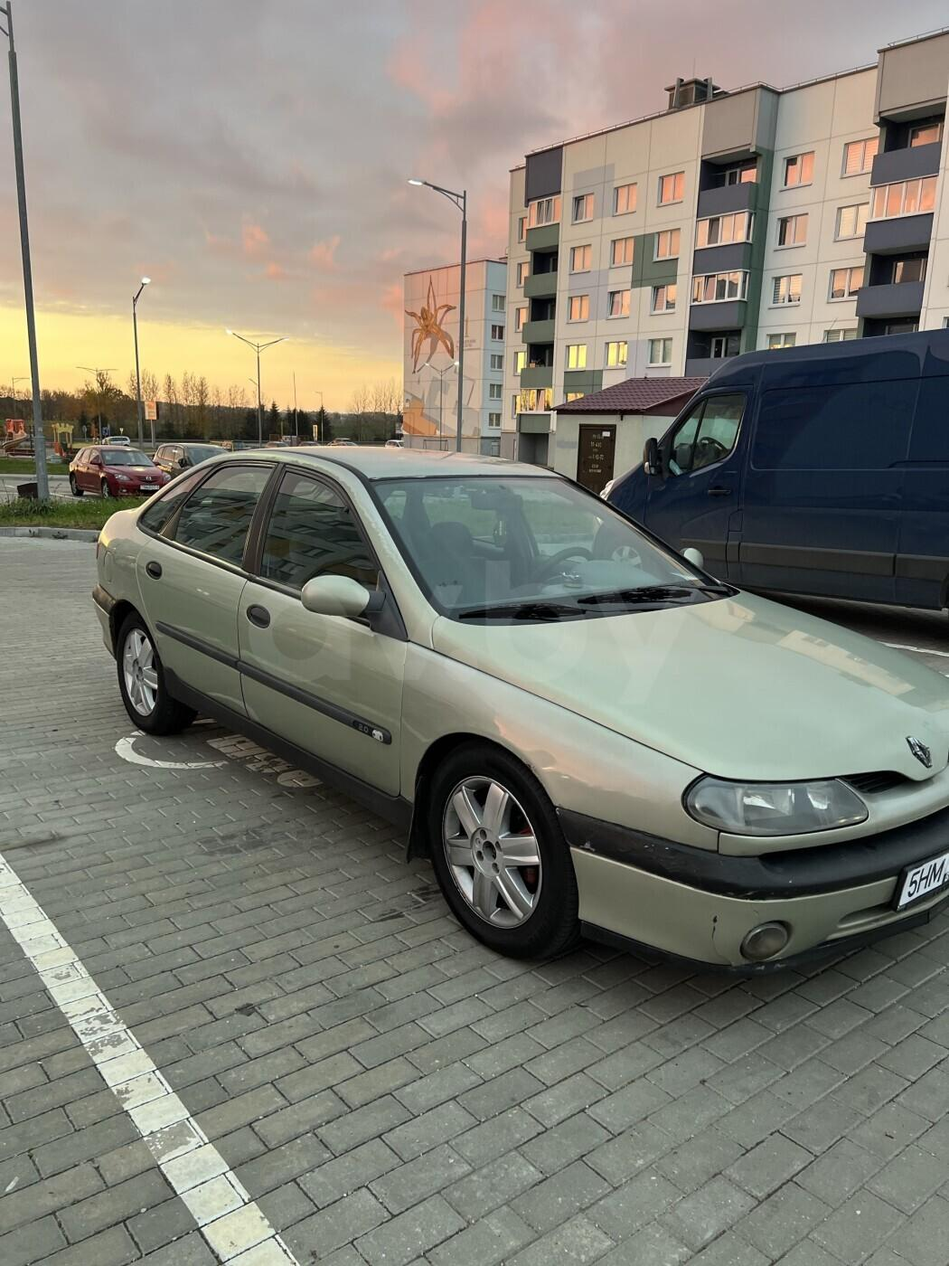Laguna_1998-2001: (90, 441, 949, 973)
